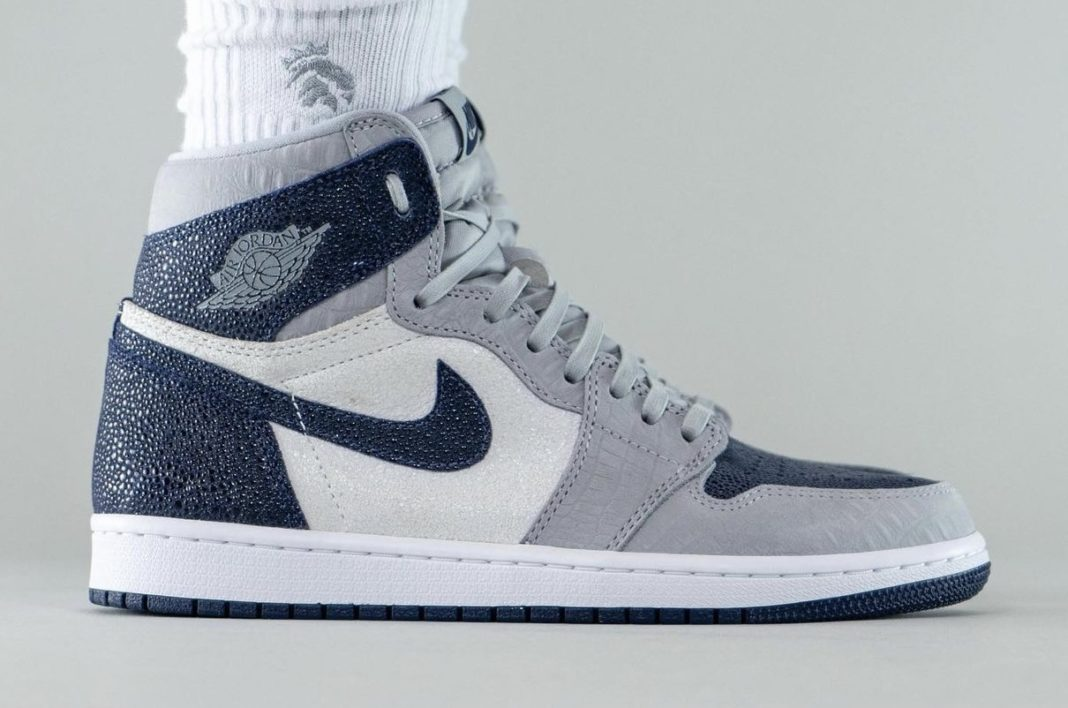Jordan 1: (75, 80, 997, 632)
